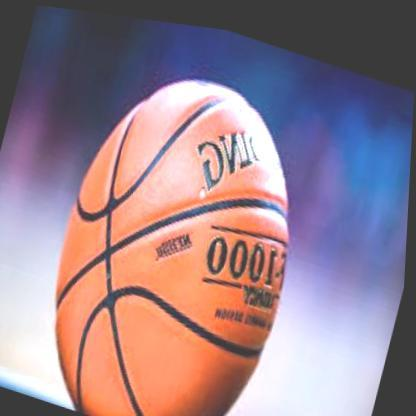basketball: (30, 33, 328, 416)
